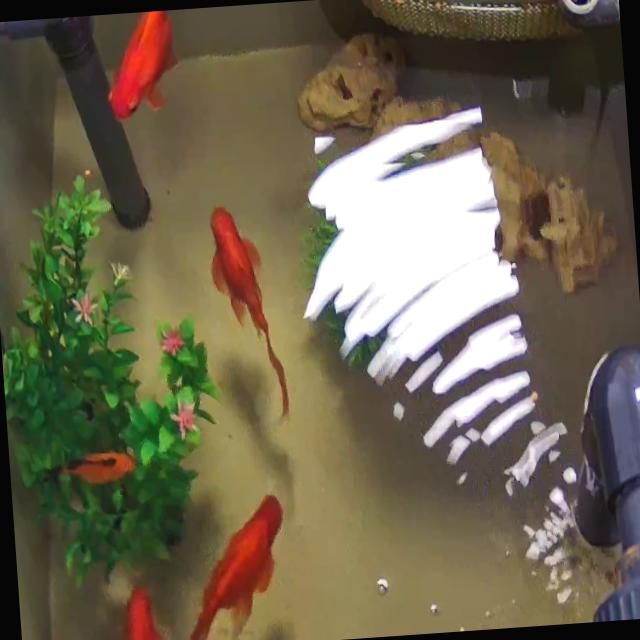fish: (167, 479, 315, 640), (205, 202, 288, 423), (87, 561, 204, 640), (102, 10, 180, 120), (56, 450, 138, 488)
